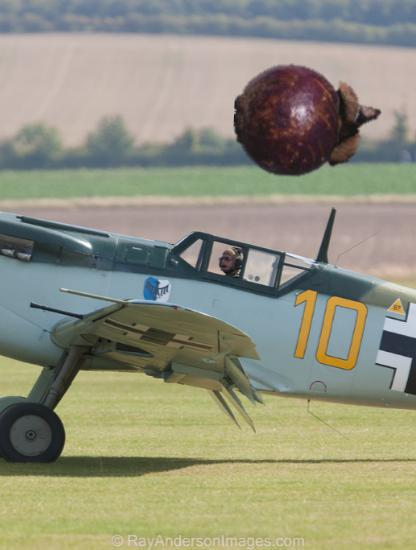Mangostan: (234, 48, 381, 195)
